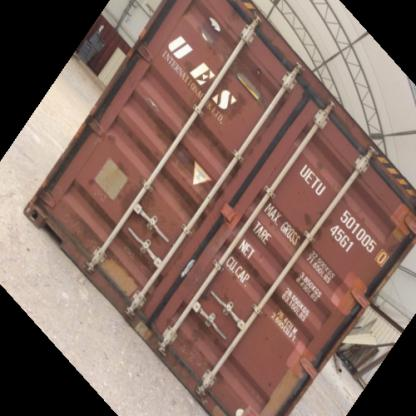Damage: (322, 157, 404, 233), (266, 246, 321, 300), (188, 77, 243, 116), (114, 177, 155, 222), (161, 127, 196, 178), (180, 317, 212, 371)
